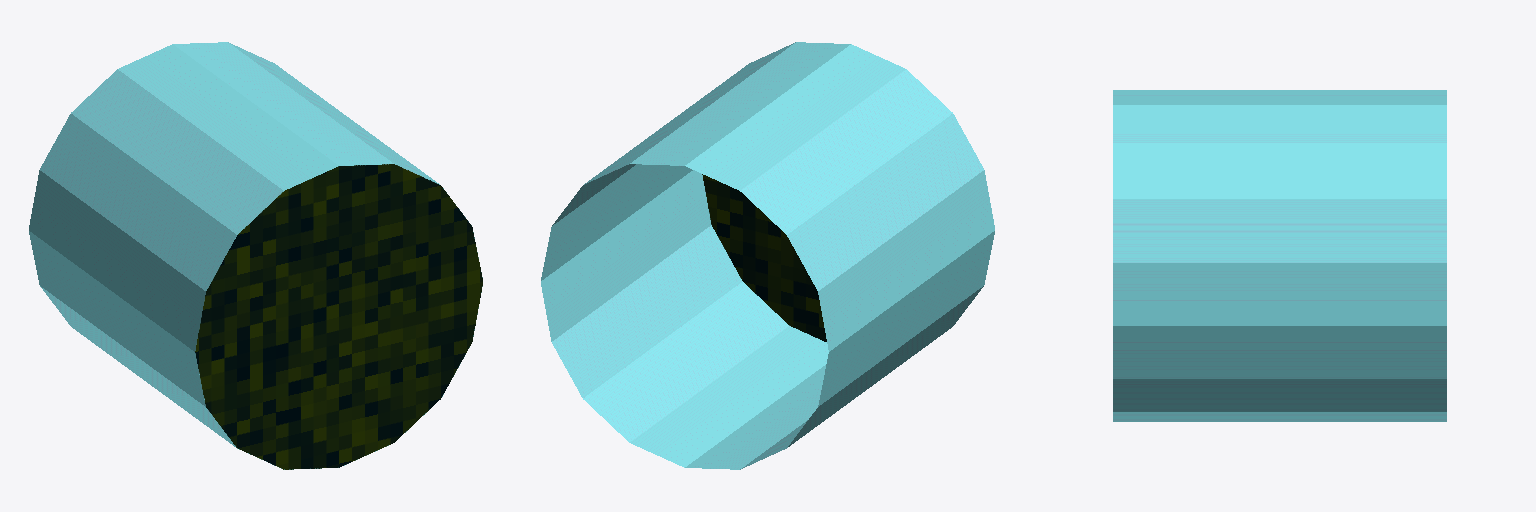
The picture shows the model from 3 angles: view 1: azimuth 30°, elevation 25°; view 2: azimuth 150°, elevation 25°; view 3: azimuth 270°, elevation 25°; orthographic projection.
Parts seen in each view (by area): view 1: Cylinder1; view 2: Cylinder1; view 3: Cylinder1.
Boxes of the visible parts, x1,y1,x2,y2 form: Cylinder1: [29, 42, 482, 469]; Cylinder1: [541, 42, 994, 469]; Cylinder1: [1113, 90, 1446, 421].
Bounding box in the file's own units: 2 × 2 × 2.
Materials: 1 (1 with a texture image).